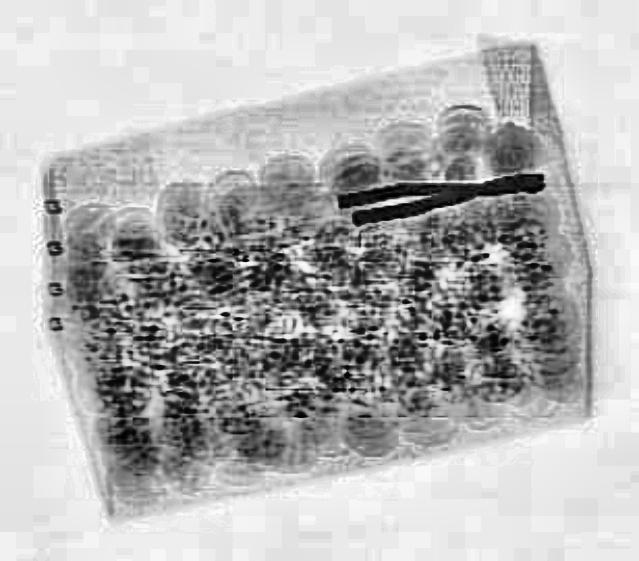Pliers: (334, 162, 548, 225)
